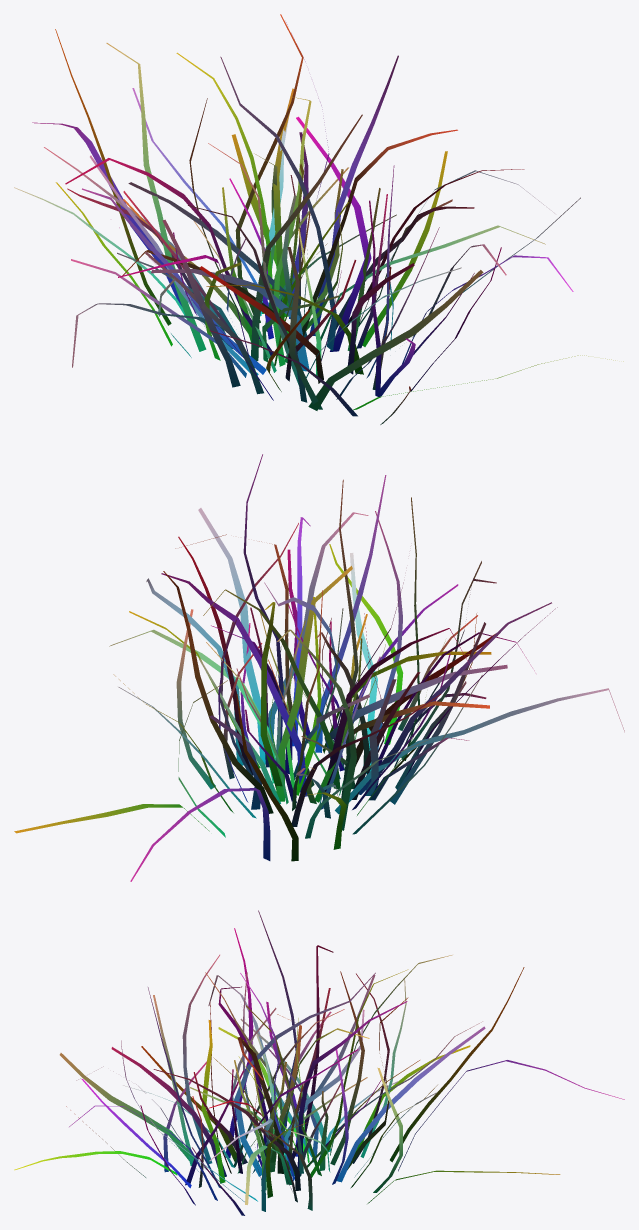
File: Wild_Grass_vlkhcbxia_High_vlkhcbxia_VarH_LOD1.fbx
3 renders of one model, top to bottom at view 1: azimuth 30°, elevation 25°; view 2: azimuth 150°, elevation 25°; view 3: azimuth 270°, elevation 25°, orthographic. The views are drawn at different scales.
Visible parts, largest first — view 1: _w2sb_VarH_LOD2; view 2: _w2sb_VarH_LOD2; view 3: _w2sb_VarH_LOD2.
Boxes of the visible parts, x1,y1,x2,y2 form: _w2sb_VarH_LOD2: [14, 14, 623, 424]; _w2sb_VarH_LOD2: [14, 454, 624, 881]; _w2sb_VarH_LOD2: [14, 910, 624, 1215].
Bounding box in the file's own units: 19.05 × 11.53 × 26.34.
